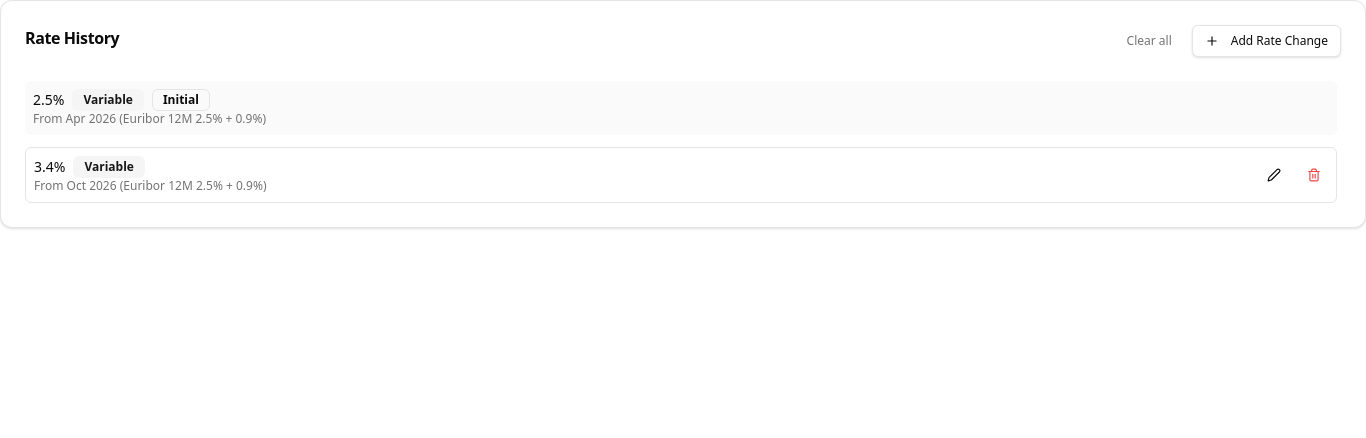
Test: RatePeriodsCard responsive layout › add form (variable rate) shows reference rate and spread fields
Click the button "Add Rate Change": (1266, 41) [1192,25,1341,57]
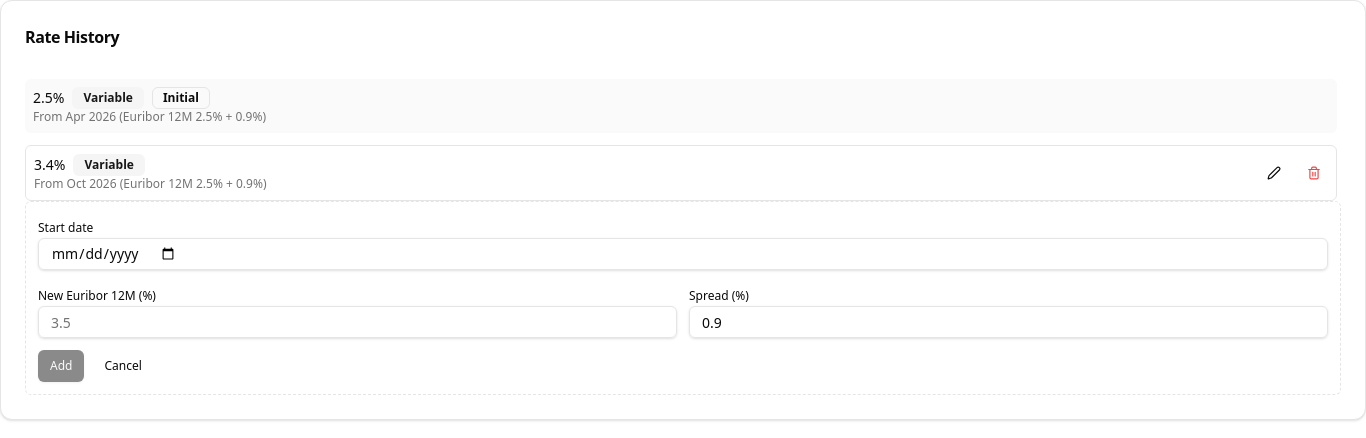
Now the text "Spread (%)" is shown, box [689,287,749,304]
